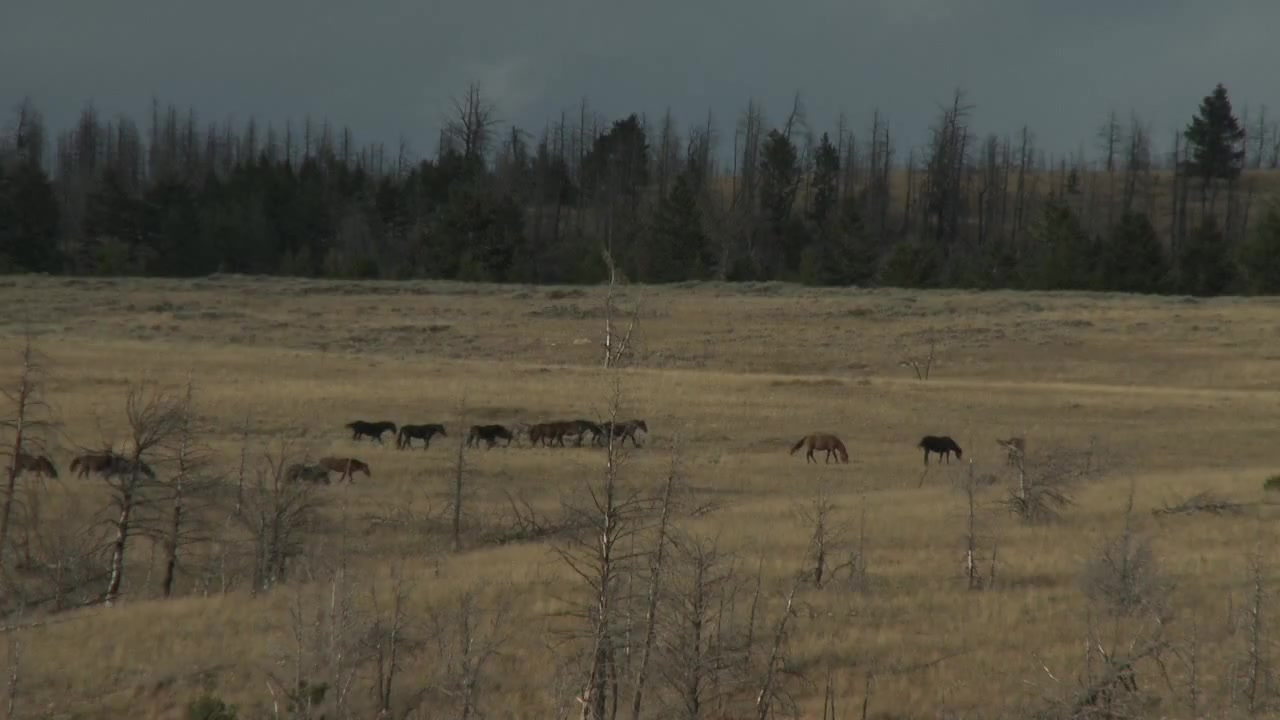horse: (790, 433, 856, 467), (393, 419, 448, 452), (921, 432, 966, 472), (325, 450, 370, 486), (71, 452, 131, 478), (347, 416, 399, 446), (12, 449, 62, 480), (282, 459, 336, 487), (530, 419, 577, 447), (464, 425, 516, 450), (564, 419, 606, 447), (614, 418, 648, 449)
